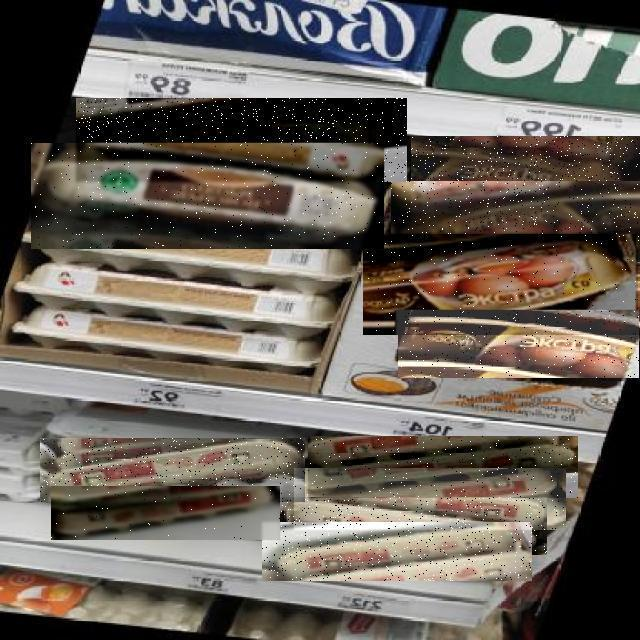Eggs: (31, 143, 384, 249), (364, 234, 640, 335), (76, 98, 407, 182), (391, 181, 640, 262), (411, 136, 640, 213), (40, 438, 305, 502), (294, 468, 566, 530), (308, 436, 578, 498), (398, 310, 639, 378), (262, 522, 532, 581), (278, 497, 547, 555), (51, 486, 280, 540)
